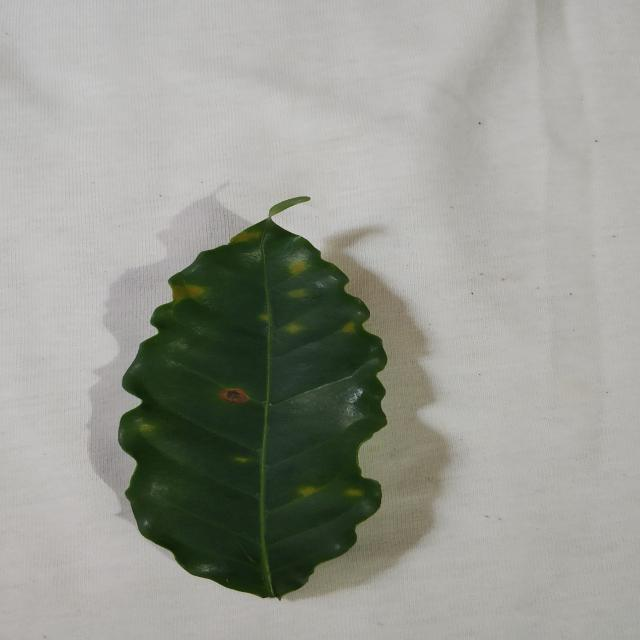Enfermedad-Roya: (117, 200, 389, 602)
